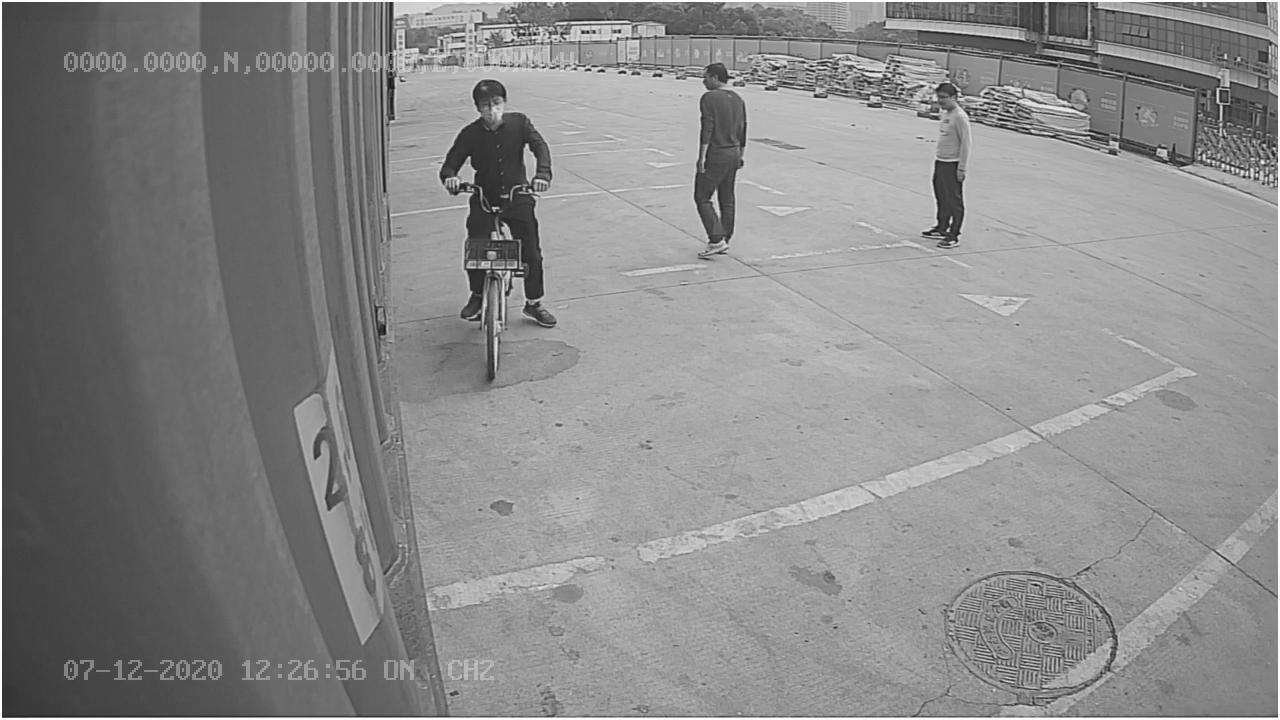person: (688, 60, 751, 267)
